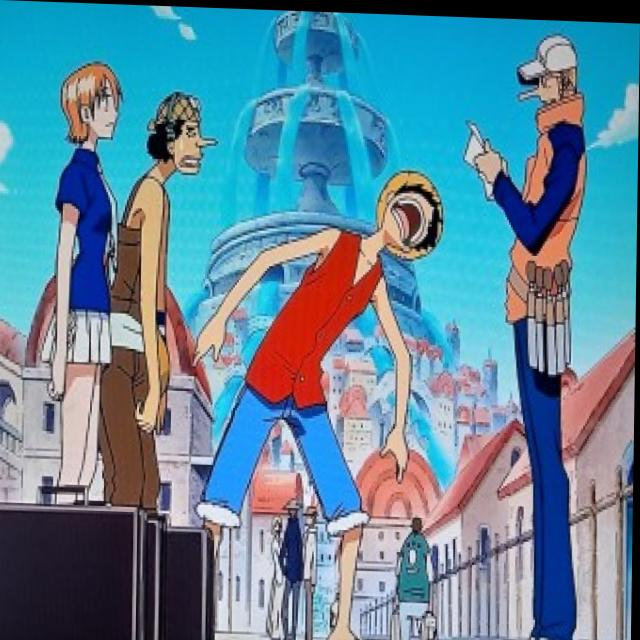Luffy: (372, 159, 459, 259)
Nami: (51, 38, 129, 163)
Usopp: (140, 81, 230, 186)
